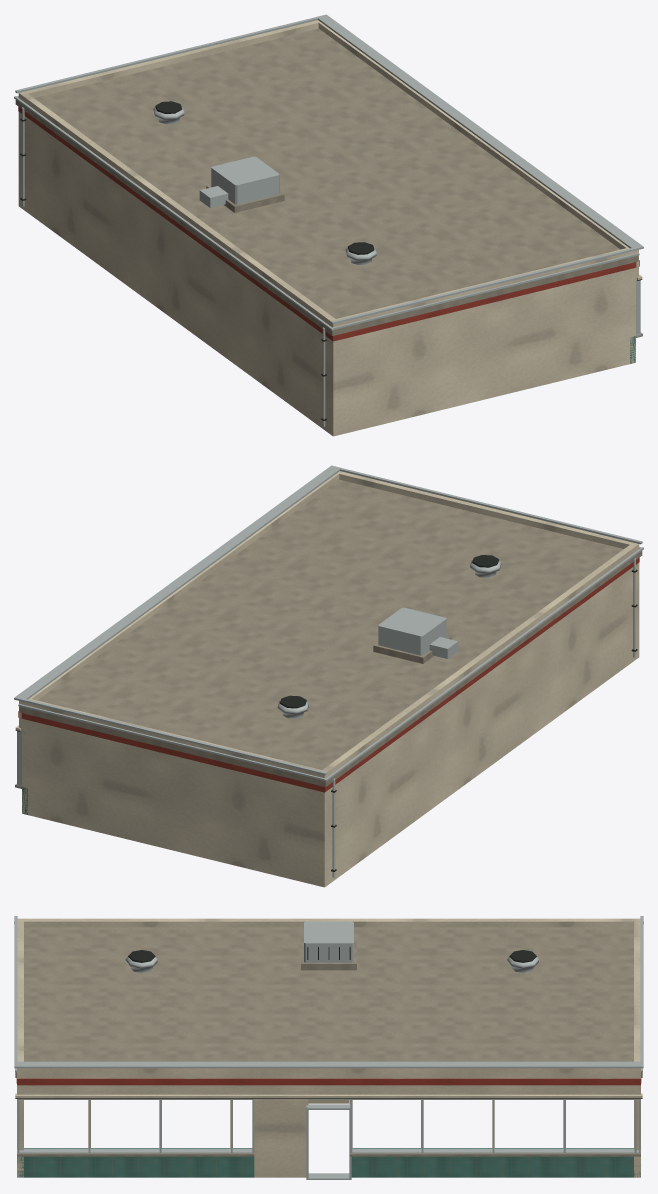
The model's file is SM_Mesa_Shell_LOD2.fbx.
The picture shows the model from 3 angles, top to bottom: view 1: azimuth 30°, elevation 25°; view 2: azimuth 150°, elevation 25°; view 3: azimuth 270°, elevation 25°; orthographic projection.
Parts seen in each view (by area): view 1: SM_Mesa_Shell_LOD2; view 2: SM_Mesa_Shell_LOD2; view 3: SM_Mesa_Shell_LOD2.
Boxes of the visible parts, x1,y1,x2,y2 form: SM_Mesa_Shell_LOD2: (14,14,643,436); SM_Mesa_Shell_LOD2: (14,465,643,887); SM_Mesa_Shell_LOD2: (14,916,643,1179).
Bounding box in the file's own units: 10.36 × 18.17 × 4.21.
